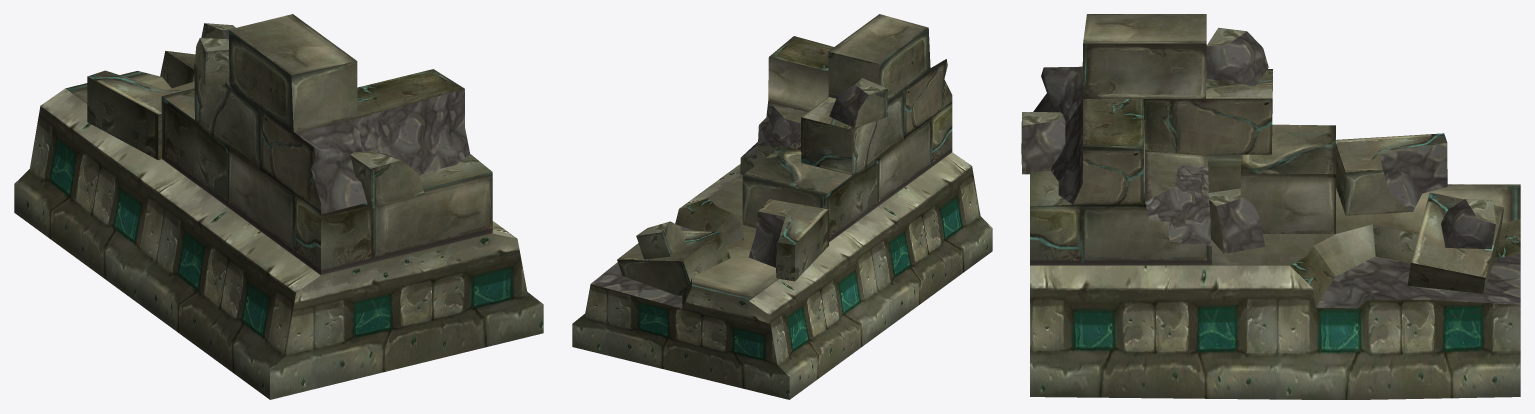
The model's file is F_qiang004.fbx.
The picture shows the model from 3 angles, left to right: view 1: azimuth 30°, elevation 25°; view 2: azimuth 150°, elevation 25°; view 3: azimuth 270°, elevation 25°; orthographic projection. The views are drawn at different scales.
Parts seen in each view (by area): view 1: F_qiang004; view 2: F_qiang004; view 3: F_qiang004.
Boxes of the visible parts, <box> form: F_qiang004: <box>14,14,543,399</box>; F_qiang004: <box>572,14,992,399</box>; F_qiang004: <box>1021,14,1520,399</box>.
Bounding box in the file's own units: 139 × 138 × 224.
